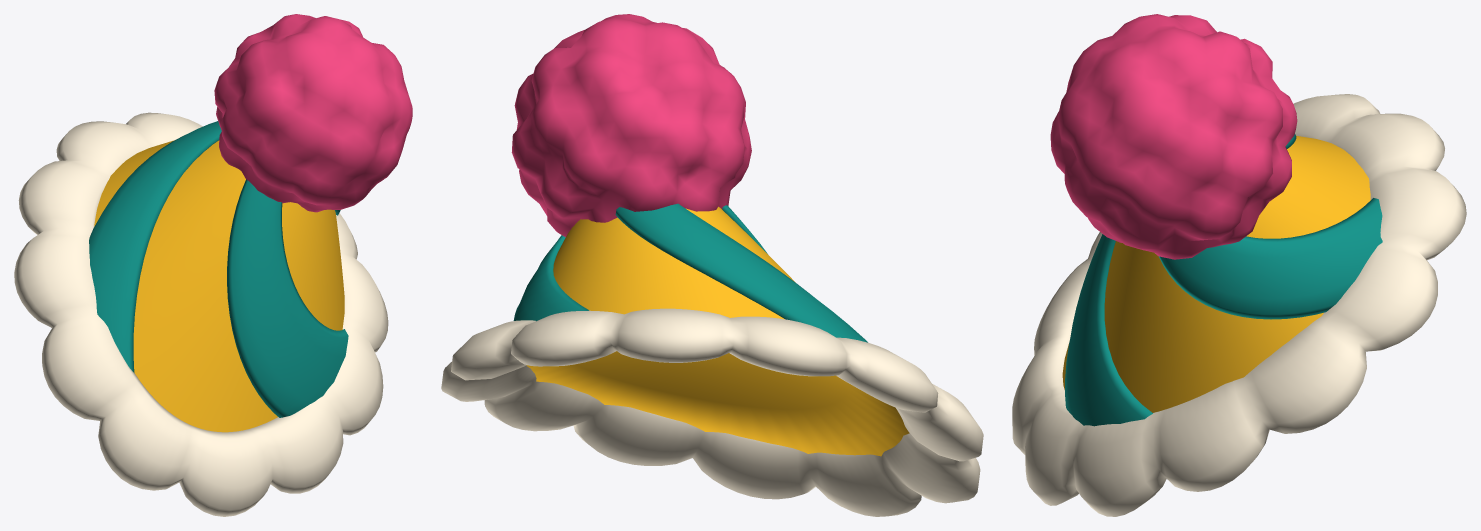
Rendered from party-hat.glb.
The picture shows the model from 3 angles, left to right: view 1: azimuth 30°, elevation 25°; view 2: azimuth 150°, elevation 25°; view 3: azimuth 270°, elevation 25°; orthographic projection. The views are drawn at different scales.
Visible parts, largest first — view 1: party_hat_ruffle, party_hat_cone, party_hat_pompom, party_hat_stripe_0, party_hat_stripe_1; view 2: party_hat_ruffle, party_hat_pompom, party_hat_cone, party_hat_stripe_1, party_hat_stripe_2; view 3: party_hat_ruffle, party_hat_pompom, party_hat_cone, party_hat_stripe_2, party_hat_stripe_0.
Part boxes in pixels (<box>): party_hat_ruffle: <box>14,112,388,516</box>; party_hat_cone: <box>94,140,344,432</box>; party_hat_pompom: <box>214,14,412,212</box>; party_hat_stripe_0: <box>227,179,348,417</box>; party_hat_stripe_1: <box>89,121,221,372</box>; party_hat_ruffle: <box>441,308,983,516</box>; party_hat_pompom: <box>511,14,751,237</box>; party_hat_cone: <box>526,206,909,456</box>; party_hat_stripe_1: <box>615,203,867,342</box>; party_hat_stripe_2: <box>513,235,589,321</box>; party_hat_ruffle: <box>1012,94,1466,516</box>; party_hat_pompom: <box>1050,14,1297,259</box>; party_hat_cone: <box>1062,135,1370,412</box>; party_hat_stripe_2: <box>1159,198,1382,319</box>; party_hat_stripe_0: <box>1065,234,1152,426</box>.
Size of the model in its own units: 0.6607 by 0.7084 by 0.5732.
